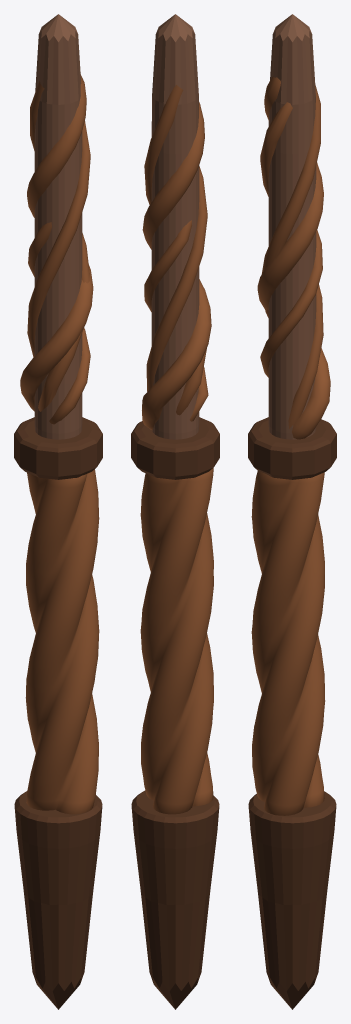
The model's file is Wand 874.glb.
The picture shows the model from 3 angles, left to right: view 1: azimuth 90°, elevation 25°; view 2: azimuth 150°, elevation 25°; view 3: azimuth 270°, elevation 25°; orthographic projection.
Parts seen in each view (by area): view 1: GeneratedWand; view 2: GeneratedWand; view 3: GeneratedWand.
Part boxes in pixels (bbox=[...]): GeneratedWand: bbox=[14, 14, 102, 1009]; GeneratedWand: bbox=[131, 14, 219, 1009]; GeneratedWand: bbox=[248, 14, 336, 1009].
Size of the model in its own units: 0.0398 by 0.4918 by 0.0398.
